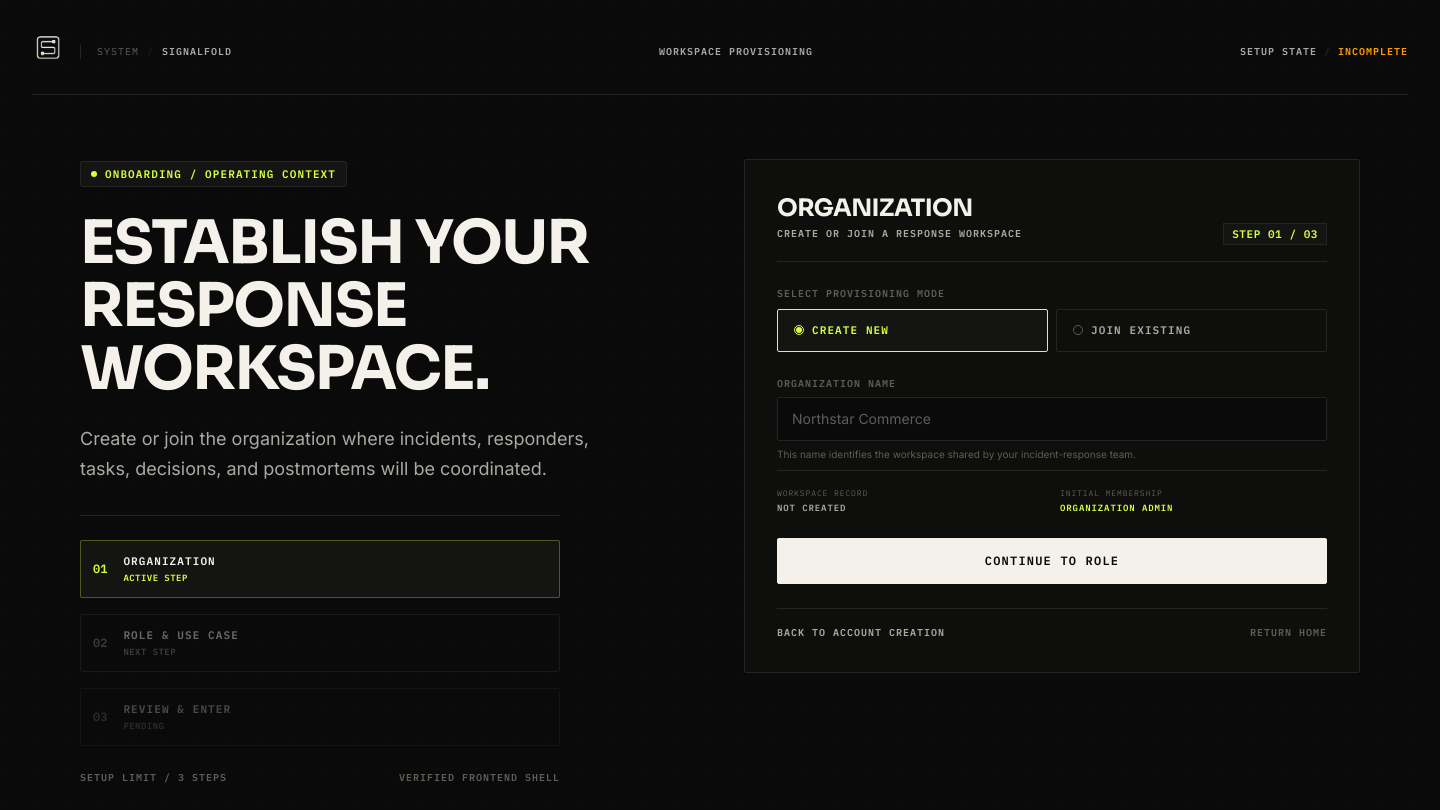
Test case: SignalFold OnboardingPage › has Create Organization selected by default and switches fields on Join selection
Check: the field labelled "ORGANIZATION NAME" is shown, box [777,396,1327,440]
Check: the field labelled "WORKSPACE INVITATION" is not shown
# Click on join existing
Click the radio button labelled "JOIN EXISTING". click: {"x": 1192, "y": 330}
box: [1056,309,1327,352]
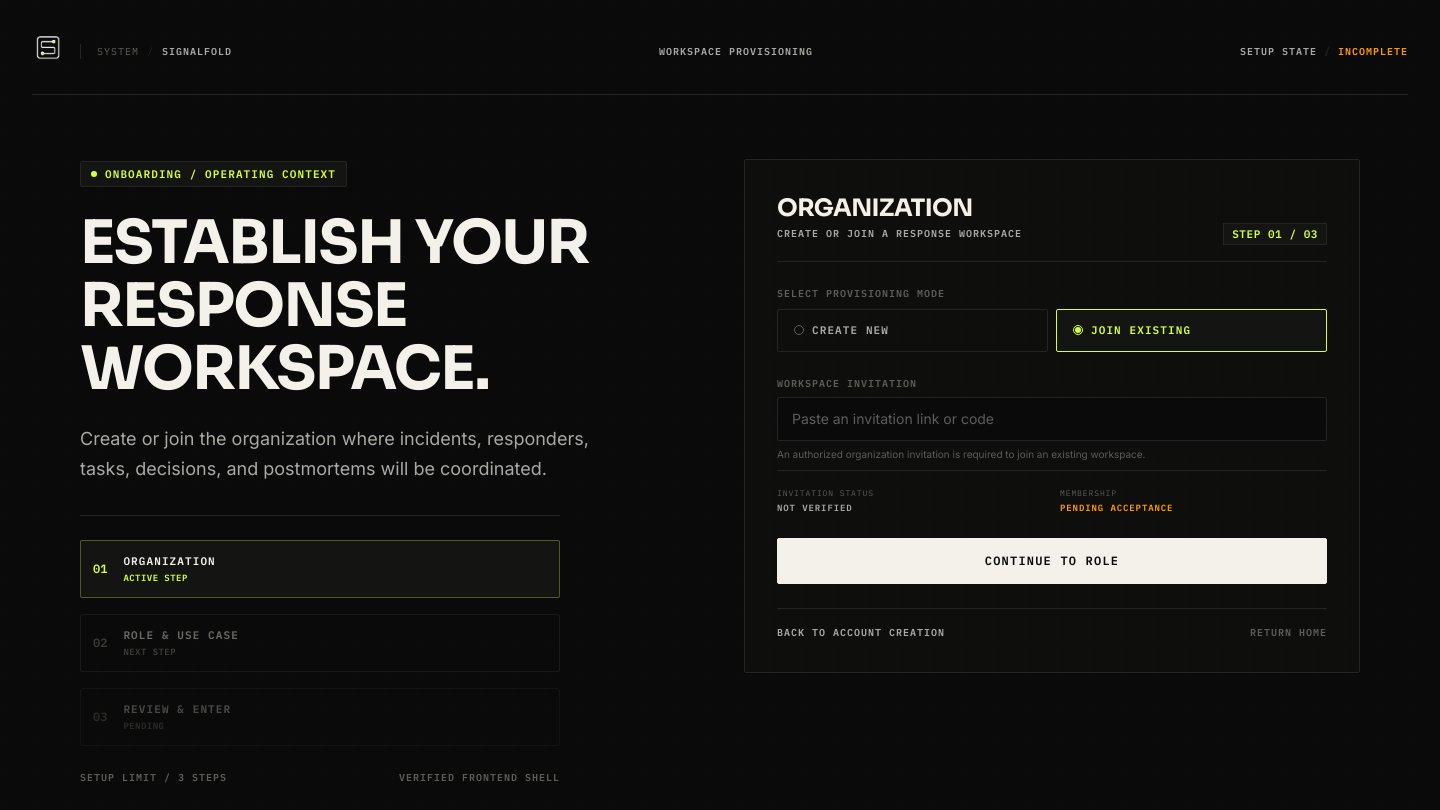
Check: the field labelled "WORKSPACE INVITATION" is shown, box [777,396,1327,440]
Check: the label labelled "ORGANIZATION NAME" is gone
